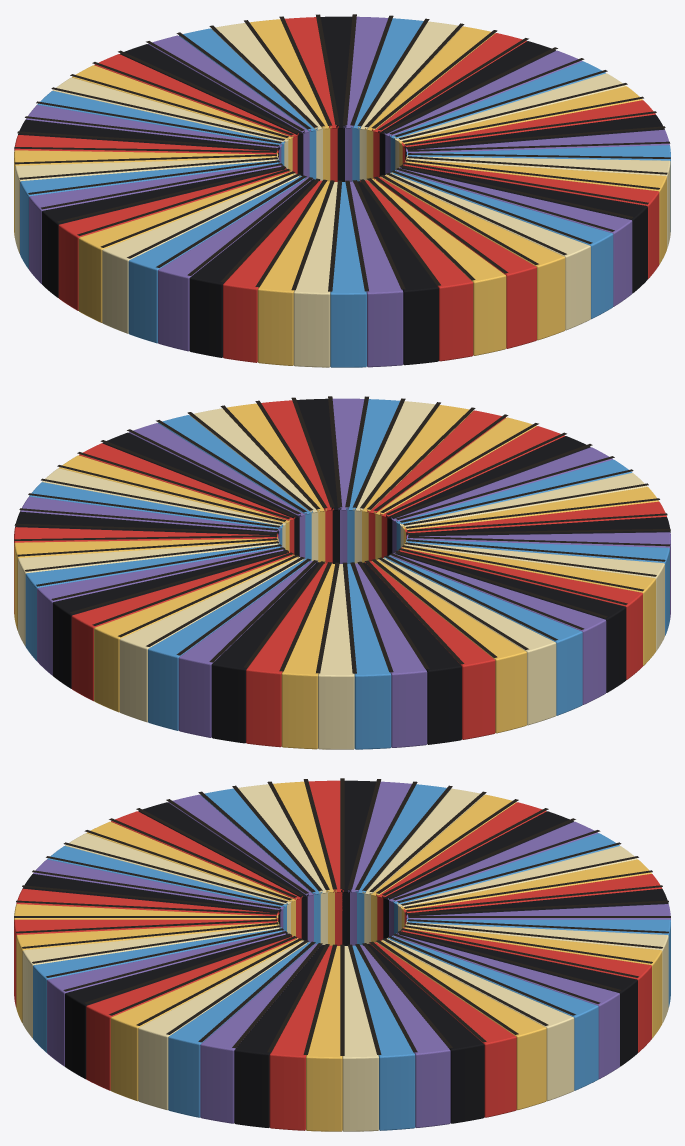
File: prize-wheel-56-segments.glb
3 renders of one model, top to bottom at view 1: azimuth 30°, elevation 25°; view 2: azimuth 150°, elevation 25°; view 3: azimuth 270°, elevation 25°, orthographic.
Parts seen in each view (by area): view 1: PrizeWheel_Segment_51, PrizeWheel_Segment_52, PrizeWheel_Segment_53, PrizeWheel_Segment_50, PrizeWheel_Segment_54, PrizeWheel_Segment_49, PrizeWheel_Segment_55, PrizeWheel_Segment_56, PrizeWheel_Segment_48, PrizeWheel_Segment_47, PrizeWheel_Segment_01, PrizeWheel_Segment_46 (+100 smaller); view 2: PrizeWheel_Segment_34, PrizeWheel_Segment_33, PrizeWheel_Segment_32, PrizeWheel_Segment_35, PrizeWheel_Segment_31, PrizeWheel_Segment_36, PrizeWheel_Segment_30, PrizeWheel_Segment_29, PrizeWheel_Segment_37, PrizeWheel_Segment_38, PrizeWheel_Segment_28, PrizeWheel_Segment_39 (+100 smaller); view 3: PrizeWheel_Segment_14, PrizeWheel_Segment_15, PrizeWheel_Segment_13, PrizeWheel_Segment_16, PrizeWheel_Segment_12, PrizeWheel_Segment_17, PrizeWheel_Segment_11, PrizeWheel_Segment_18, PrizeWheel_Segment_10, PrizeWheel_Segment_19, PrizeWheel_Segment_09, PrizeWheel_Segment_20 (+100 smaller).
Part boxes in pixels (box(x1,y1,x2,y2)): PrizeWheel_Segment_51: box(293, 182, 337, 367); PrizeWheel_Segment_52: box(330, 182, 366, 367); PrizeWheel_Segment_53: box(350, 181, 403, 367); PrizeWheel_Segment_50: box(257, 181, 329, 365); PrizeWheel_Segment_54: box(357, 181, 438, 365); PrizeWheel_Segment_49: box(223, 180, 326, 362); PrizeWheel_Segment_55: box(360, 180, 473, 361); PrizeWheel_Segment_56: box(367, 178, 506, 355); PrizeWheel_Segment_48: box(189, 179, 319, 357); PrizeWheel_Segment_47: box(158, 177, 312, 351); PrizeWheel_Segment_01: box(374, 177, 536, 348); PrizeWheel_Segment_46: box(128, 176, 306, 343); PrizeWheel_Segment_34: box(347, 564, 391, 749); PrizeWheel_Segment_33: box(318, 564, 354, 749); PrizeWheel_Segment_32: box(281, 563, 334, 749); PrizeWheel_Segment_35: box(355, 563, 427, 747); PrizeWheel_Segment_31: box(246, 563, 327, 747); PrizeWheel_Segment_36: box(358, 562, 461, 744); PrizeWheel_Segment_30: box(211, 562, 324, 743); PrizeWheel_Segment_29: box(178, 560, 317, 737); PrizeWheel_Segment_37: box(365, 561, 495, 739); PrizeWheel_Segment_38: box(372, 559, 526, 733); PrizeWheel_Segment_28: box(148, 559, 310, 730); PrizeWheel_Segment_39: box(378, 558, 556, 725); PrizeWheel_Segment_14: box(306, 946, 342, 1131); PrizeWheel_Segment_15: box(342, 946, 378, 1131); PrizeWheel_Segment_13: box(269, 945, 332, 1130); PrizeWheel_Segment_16: box(352, 945, 415, 1130); PrizeWheel_Segment_12: box(234, 945, 324, 1127); PrizeWheel_Segment_17: box(360, 945, 450, 1127); PrizeWheel_Segment_11: box(200, 943, 322, 1123); PrizeWheel_Segment_18: box(362, 943, 484, 1123); PrizeWheel_Segment_10: box(168, 942, 315, 1117); PrizeWheel_Segment_19: box(369, 942, 516, 1117); PrizeWheel_Segment_09: box(138, 940, 308, 1110); PrizeWheel_Segment_20: box(376, 940, 546, 1110).
Bounding box in the file's own units: 0.24 × 0.0313 × 0.24.
